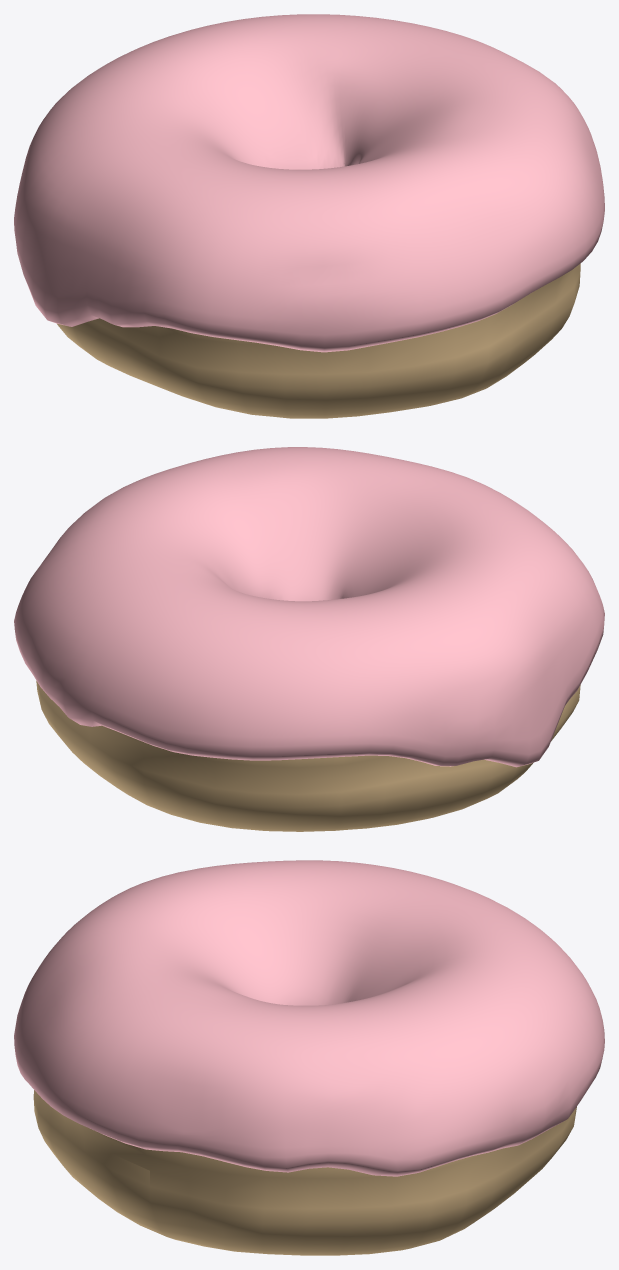
File: donutPink.glb
The picture shows the model from 3 angles, top to bottom: view 1: azimuth 30°, elevation 25°; view 2: azimuth 150°, elevation 25°; view 3: azimuth 270°, elevation 25°; orthographic projection. The views are drawn at different scales.
Visible parts, largest first — view 1: icing, donut; view 2: icing, donut; view 3: icing, donut.
Part boxes in pixels (bbox=[...]): icing: bbox=[14, 14, 604, 352]; donut: bbox=[57, 263, 580, 418]; icing: bbox=[14, 447, 604, 767]; donut: bbox=[36, 681, 580, 831]; icing: bbox=[14, 860, 604, 1176]; donut: bbox=[33, 1090, 576, 1255].
Size of the model in its own units: 0.5817 by 0.2612 by 0.5909.
